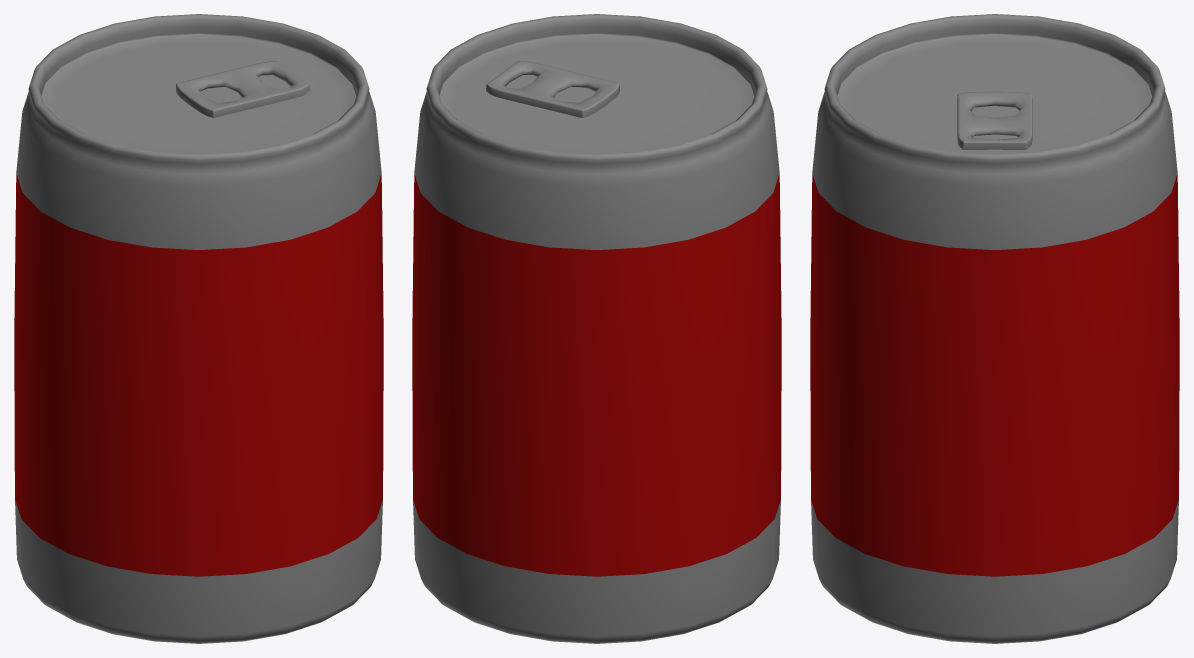
Rendered from Proto_Can_01.fbx.
3 views of the same model, side by side, from view 1: azimuth 30°, elevation 25°; view 2: azimuth 150°, elevation 25°; view 3: azimuth 270°, elevation 25° (orthographic).
Visible parts, largest first — view 1: Proto_Can_01; view 2: Proto_Can_01; view 3: Proto_Can_01.
Part boxes in pixels (left/top/right/bottom): Proto_Can_01: left=14, top=14, right=383, bottom=643; Proto_Can_01: left=412, top=14, right=781, bottom=643; Proto_Can_01: left=810, top=14, right=1179, bottom=643.
Bounding box in the file's own units: 4.92 × 7.18 × 4.92.
